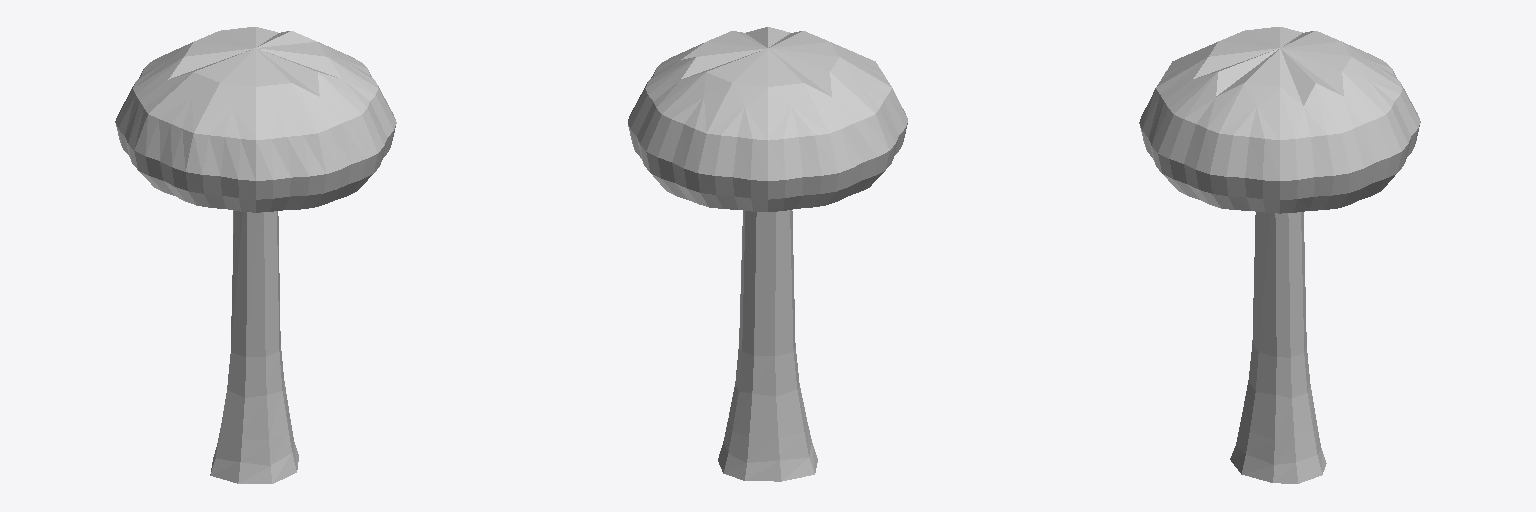
The model's file is O_JungleWorldTree_e.obj.
The picture shows the model from 3 angles: view 1: azimuth 30°, elevation 25°; view 2: azimuth 150°, elevation 25°; view 3: azimuth 270°, elevation 25°; orthographic projection.
Visible parts, largest first — view 1: Tree_Thick_Single; view 2: Tree_Thick_Single; view 3: Tree_Thick_Single.
Boxes of the visible parts, x1=… form: Tree_Thick_Single: x1=115, y1=27, x2=396, y2=483; Tree_Thick_Single: x1=628, y1=27, x2=907, y2=481; Tree_Thick_Single: x1=1139, y1=27, x2=1420, y2=483.
Size of the model in its own units: 1198 by 1955 by 1200.